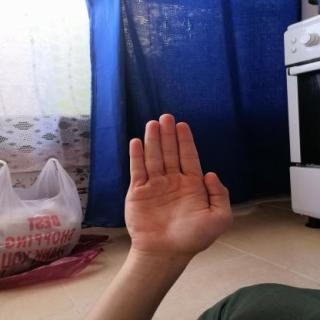SEEN: (114, 107, 241, 261)
